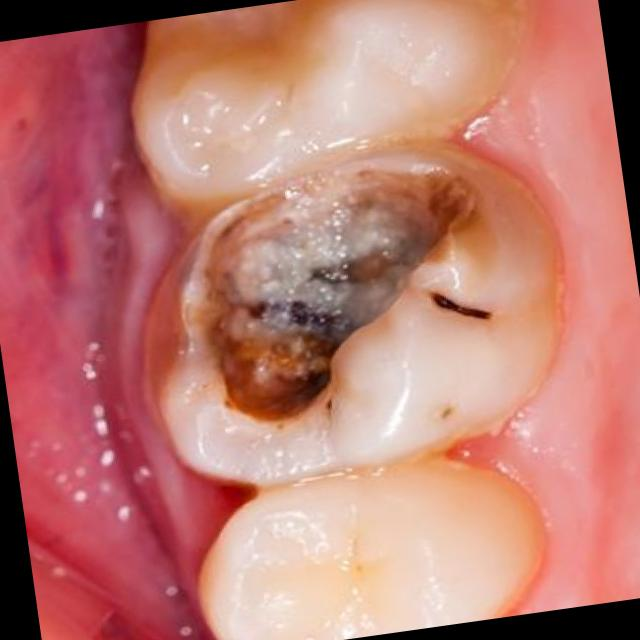Caries: (291, 300, 339, 338), (433, 292, 490, 319), (288, 368, 332, 398), (307, 269, 337, 284), (247, 303, 266, 320), (442, 408, 451, 421), (326, 398, 332, 413)
Cavity: (178, 160, 477, 476)
Tooth: (160, 142, 569, 485), (132, 0, 531, 238), (200, 454, 554, 640)
